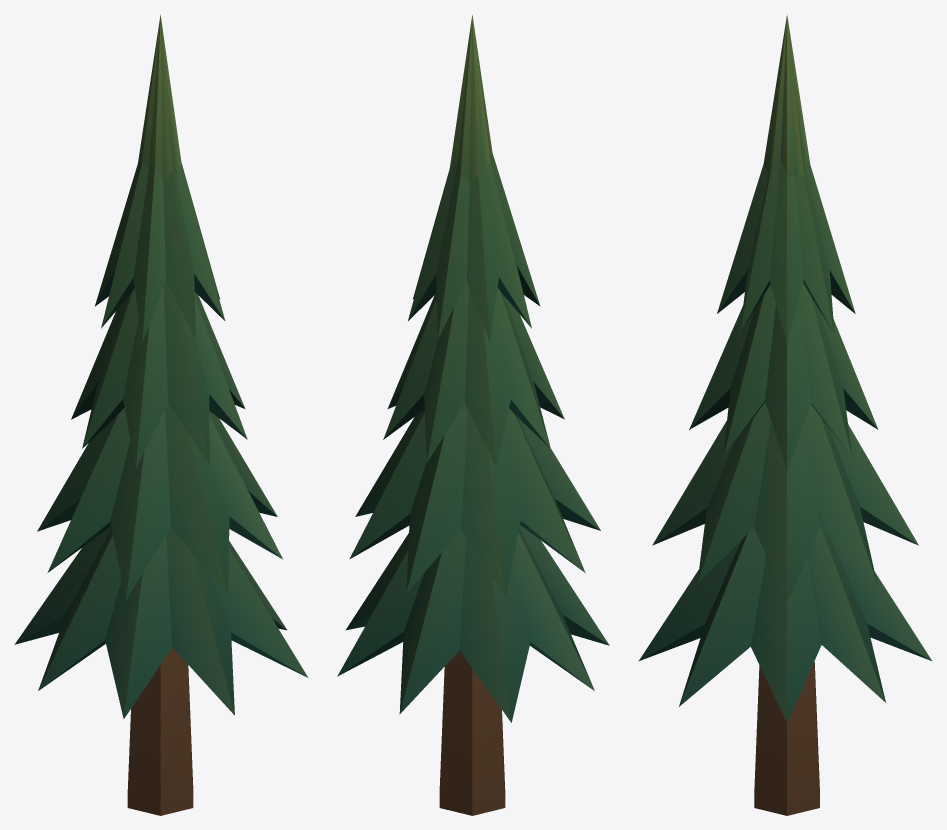
The picture shows the model from 3 angles, left to right: view 1: azimuth 30°, elevation 25°; view 2: azimuth 150°, elevation 25°; view 3: azimuth 270°, elevation 25°; orthographic projection.
Parts seen in each view (by area): view 1: prop_pine_slender; view 2: prop_pine_slender; view 3: prop_pine_slender.
Part boxes in pixels (bbox=[...]): prop_pine_slender: bbox=[14, 15, 308, 815]; prop_pine_slender: bbox=[337, 15, 609, 815]; prop_pine_slender: bbox=[639, 14, 931, 815].
Size of the model in its own units: 2.83 by 8.5 by 2.88.
